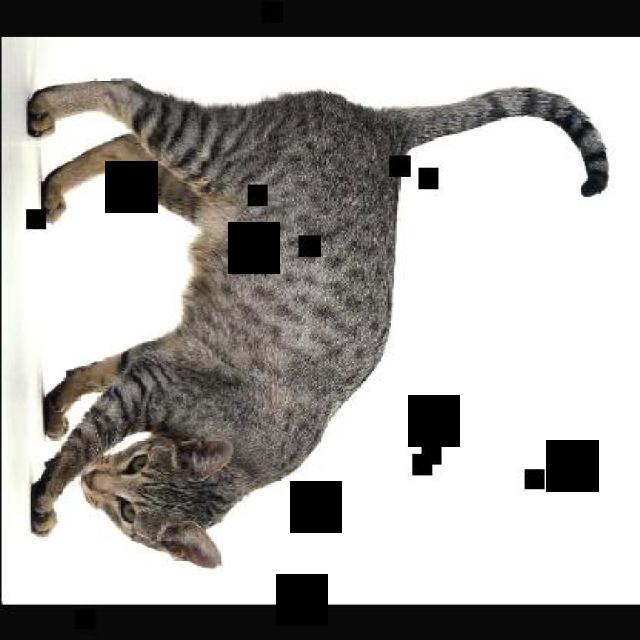unauthorized: (26, 75, 608, 568)
